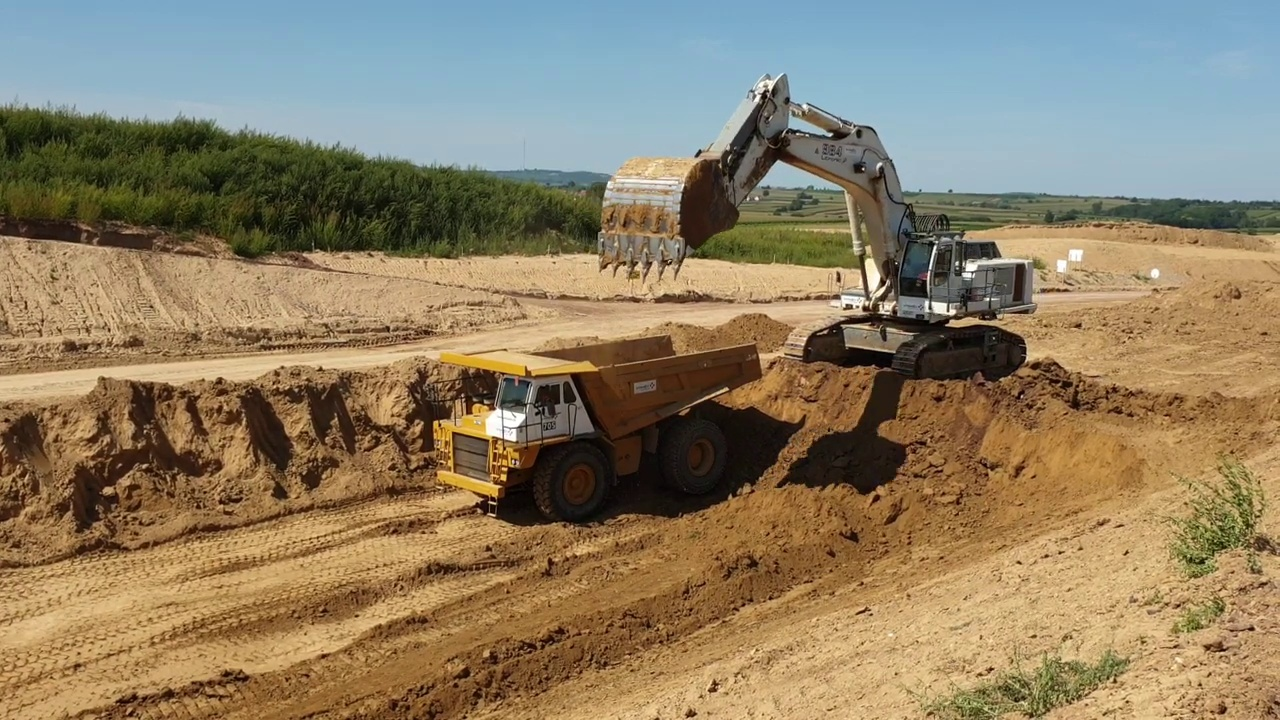excavator: (592, 65, 1042, 389)
truck: (411, 331, 773, 533)
